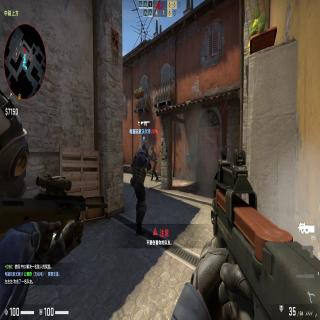CT-Body: (130, 142, 150, 222)
CT-Head: (142, 143, 149, 159)
T-Head: (151, 147, 154, 153)
